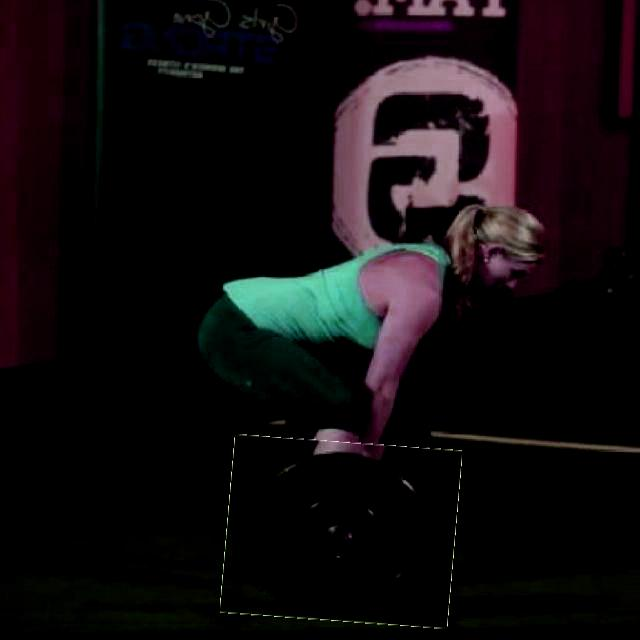barbell: (225, 439, 459, 629)
